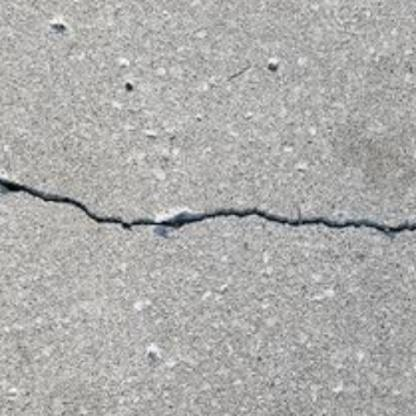Cracks: (0, 169, 416, 243)
